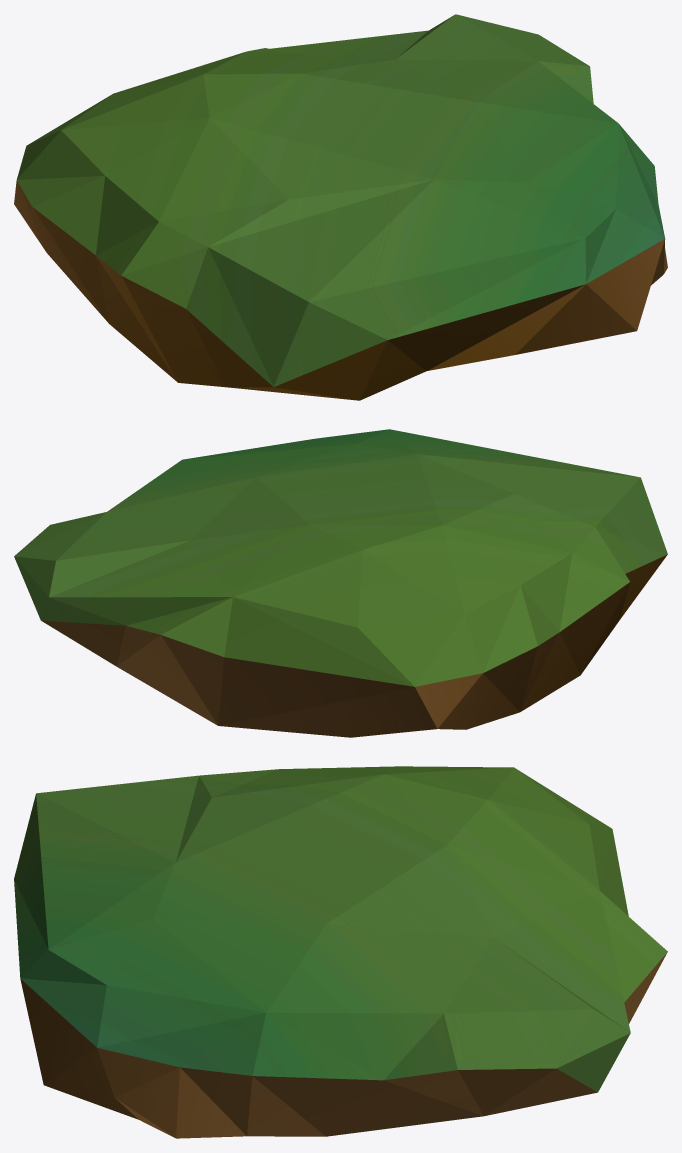
The model's file is 4seasons_ground_rock.FBX.
3 views of the same model, one above another, from view 1: azimuth 30°, elevation 25°; view 2: azimuth 150°, elevation 25°; view 3: azimuth 270°, elevation 25° (orthographic). The views are drawn at different scales.
Parts seen in each view (by area): view 1: 4seasons_ground_rock; view 2: 4seasons_ground_rock; view 3: 4seasons_ground_rock.
Part boxes in pixels (x1,y1,x2,y2): 4seasons_ground_rock: (14,14,667,400); 4seasons_ground_rock: (14,429,667,737); 4seasons_ground_rock: (14,766,667,1138).
Size of the model in its own units: 2369 by 780 by 2224.
2 materials, 2 textured.
